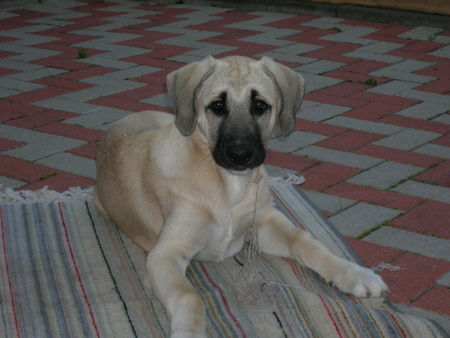kangal: (94, 54, 390, 338)
